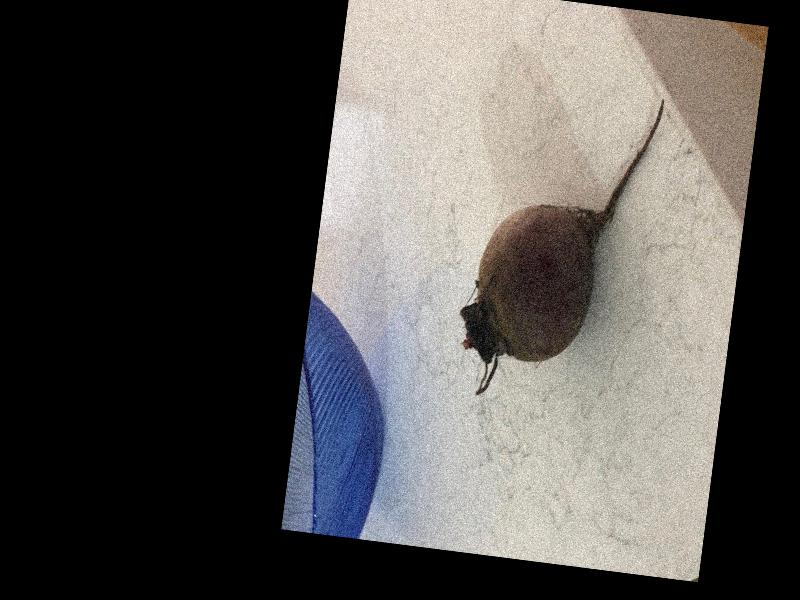Beet: (451, 79, 665, 412)
